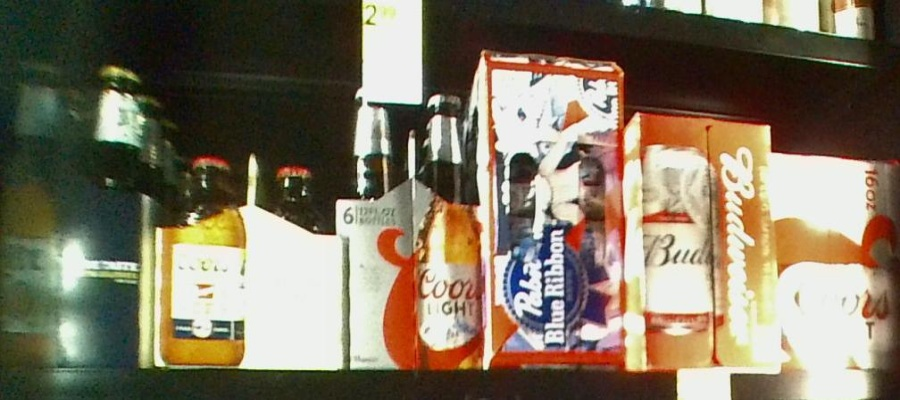bottle: (475, 51, 628, 369), (4, 60, 150, 368), (154, 153, 341, 369), (628, 100, 774, 374), (343, 90, 480, 372), (771, 153, 900, 372)
